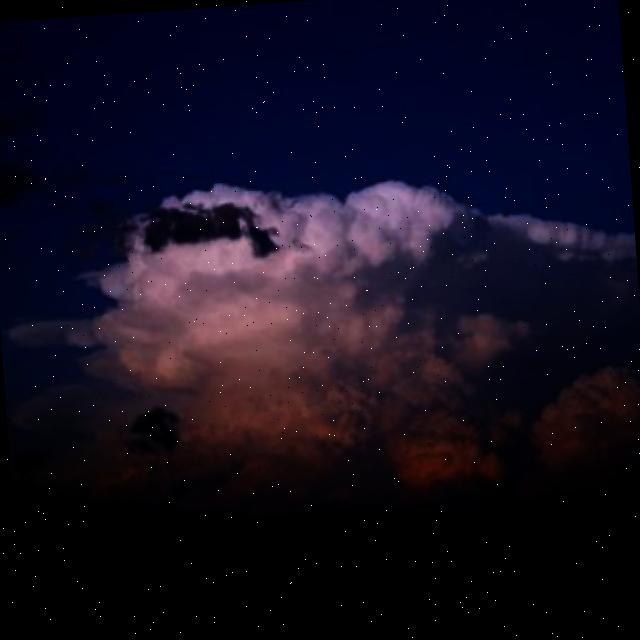Cb: (1, 79, 640, 547)
